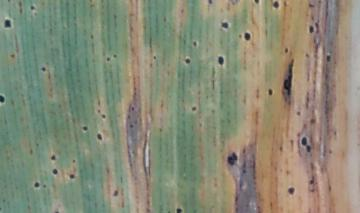tarspot: (283, 64, 293, 96), (228, 151, 238, 166), (16, 1, 24, 15), (3, 17, 12, 29), (216, 54, 225, 65), (299, 137, 309, 146), (287, 186, 296, 195), (111, 188, 120, 197), (324, 53, 332, 63), (327, 146, 335, 156), (308, 23, 315, 34), (221, 21, 229, 30), (243, 32, 252, 40), (282, 45, 290, 54), (41, 178, 48, 188), (49, 153, 57, 161), (272, 1, 280, 9), (68, 171, 76, 179), (51, 166, 59, 174), (96, 131, 103, 140), (307, 117, 316, 124), (267, 86, 273, 96), (81, 124, 89, 131), (183, 58, 191, 65), (191, 40, 198, 48), (190, 105, 198, 112), (295, 108, 302, 116), (303, 51, 311, 58), (33, 180, 40, 188), (277, 145, 285, 152), (1, 94, 6, 104), (29, 4, 36, 11), (40, 65, 47, 72), (70, 157, 77, 164), (95, 107, 102, 114), (104, 55, 111, 62), (9, 52, 16, 58), (100, 113, 107, 119), (88, 33, 95, 39), (111, 52, 118, 58), (151, 54, 158, 60), (237, 32, 243, 39), (175, 207, 182, 213), (129, 123, 135, 129), (252, 1, 261, 5), (309, 178, 315, 184), (307, 144, 311, 152), (130, 105, 135, 111), (308, 3, 315, 7), (208, 1, 212, 5), (55, 210, 60, 213), (7, 1, 12, 3)
